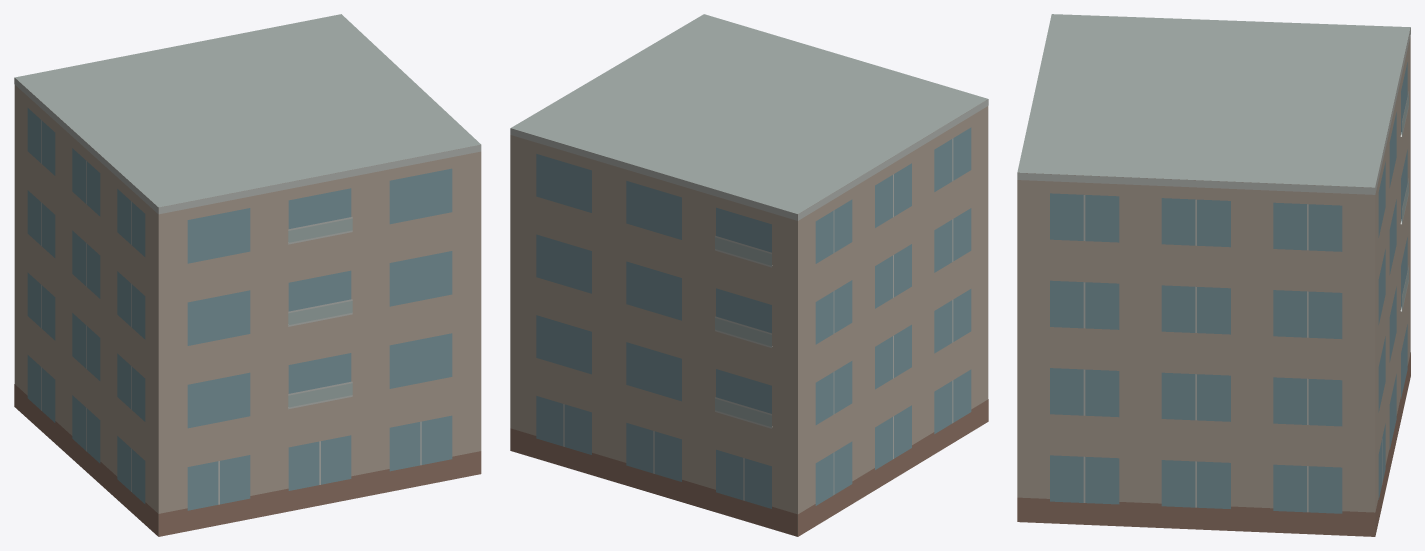
Rendered from survey-upis-32548062.glb.
The picture shows the model from 3 angles, left to right: view 1: azimuth 30°, elevation 25°; view 2: azimuth 150°, elevation 25°; view 3: azimuth 270°, elevation 25°; orthographic projection. The views are drawn at different scales.
Parts seen in each view (by area): view 1: survey-upis-32548062.tmp; view 2: survey-upis-32548062.tmp; view 3: survey-upis-32548062.tmp.
Boxes of the visible parts, x1,y1,x2,y2 form: survey-upis-32548062.tmp: (14,14,481,536); survey-upis-32548062.tmp: (510,14,988,536); survey-upis-32548062.tmp: (1017,14,1410,536).
Bounding box in the file's own units: 12.43 × 11.65 × 11.9.
